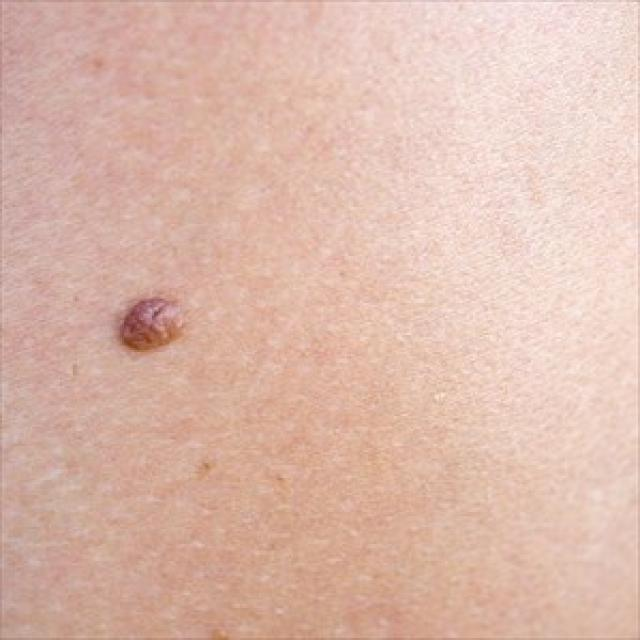Nao cancer: (99, 278, 213, 368)
